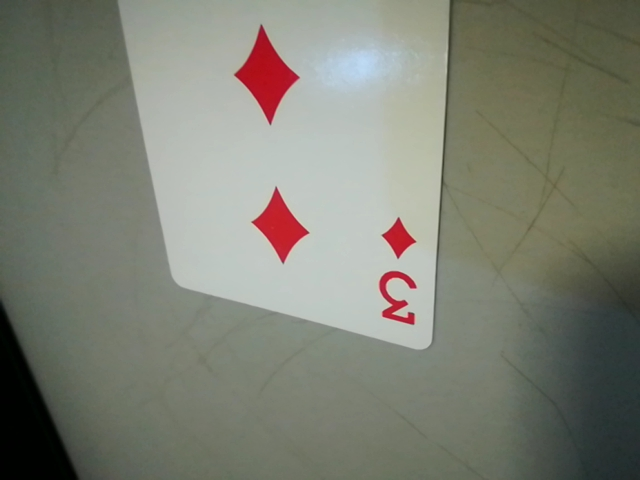fk 3: (363, 209, 431, 339)
